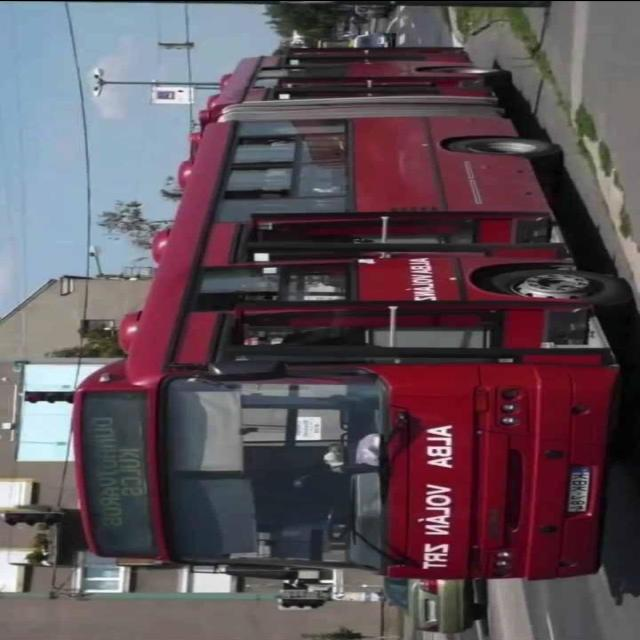bus: (70, 43, 634, 582)
